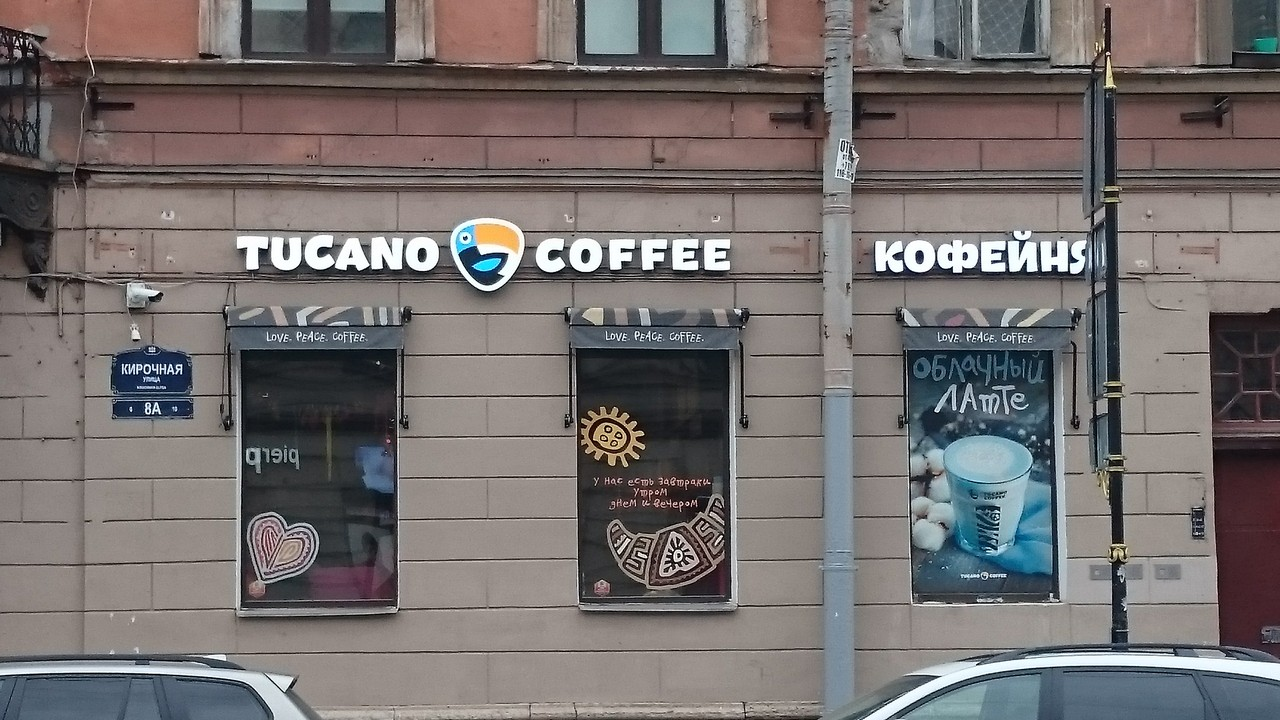signboard: (235, 216, 735, 283), (868, 229, 1090, 278)
window: (236, 331, 399, 610), (580, 349, 734, 605), (910, 349, 1059, 611)
